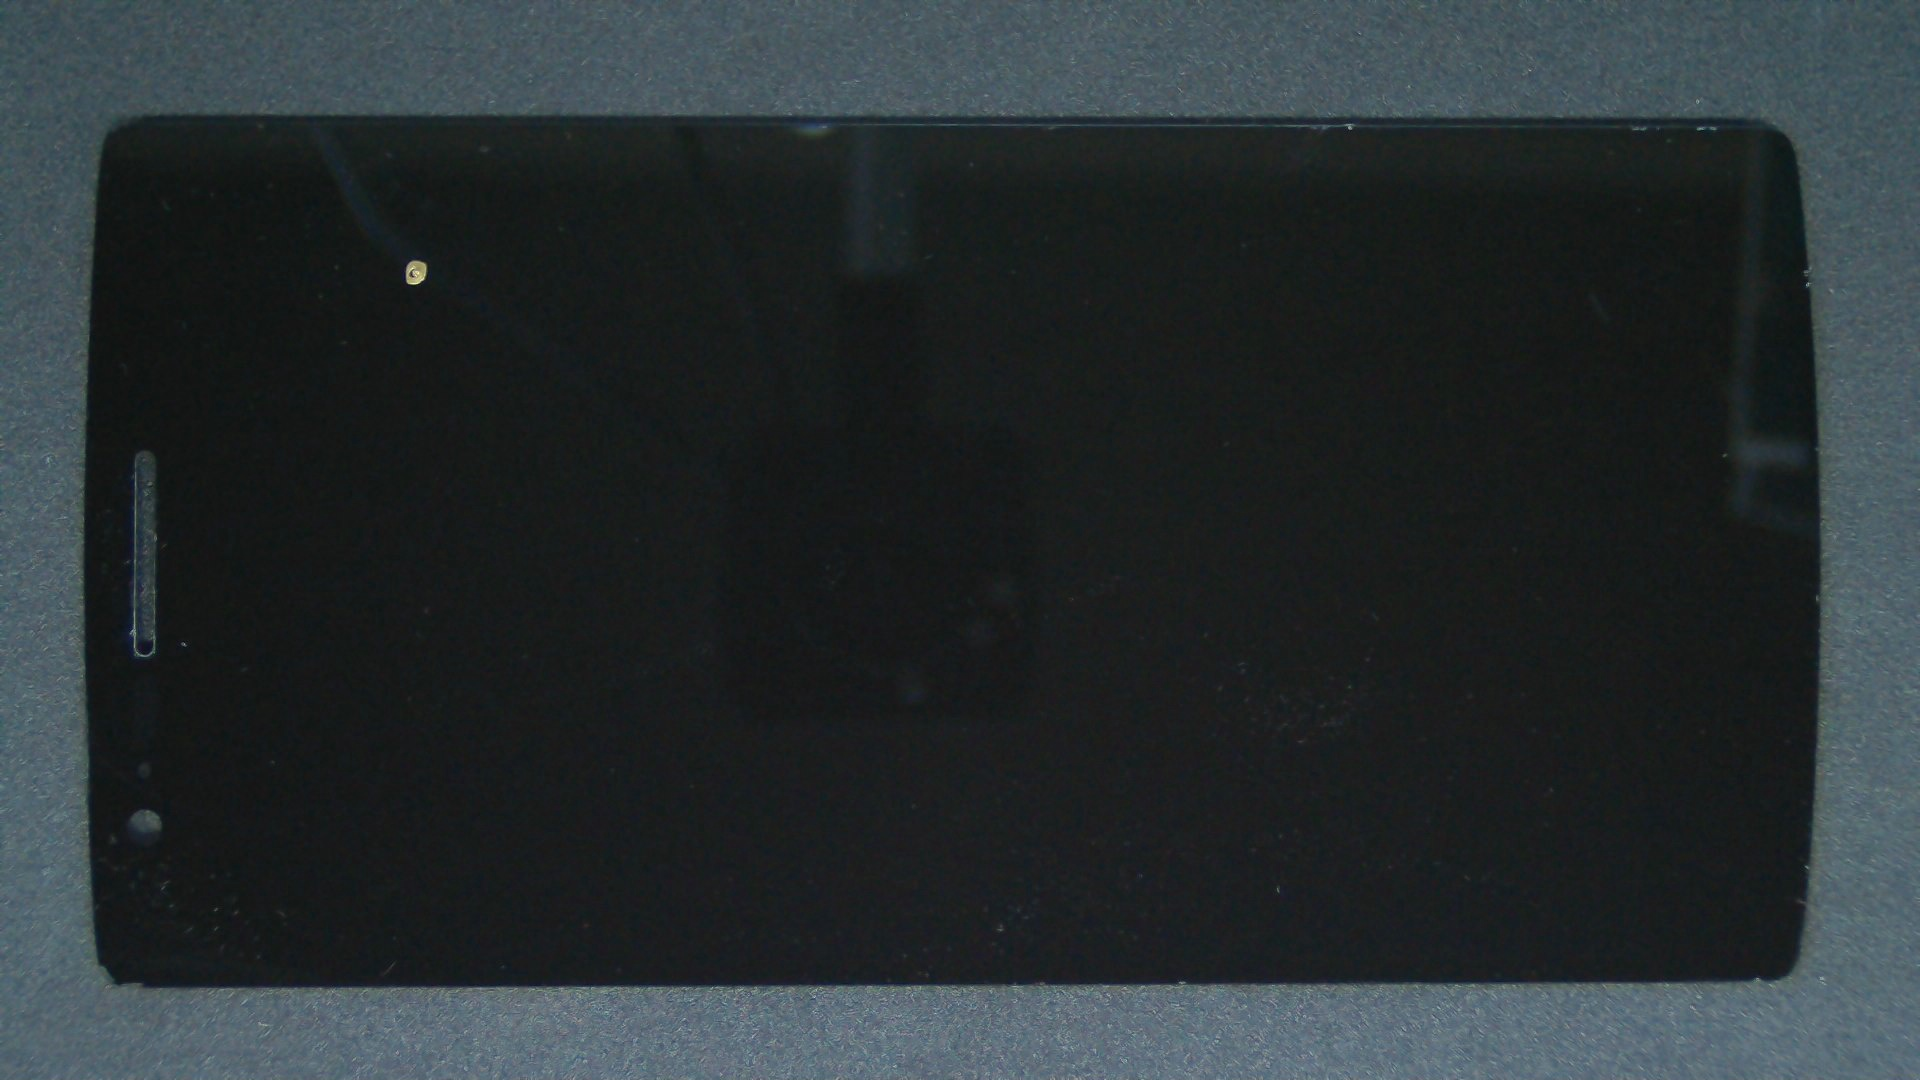oil: (207, 128, 617, 389)
